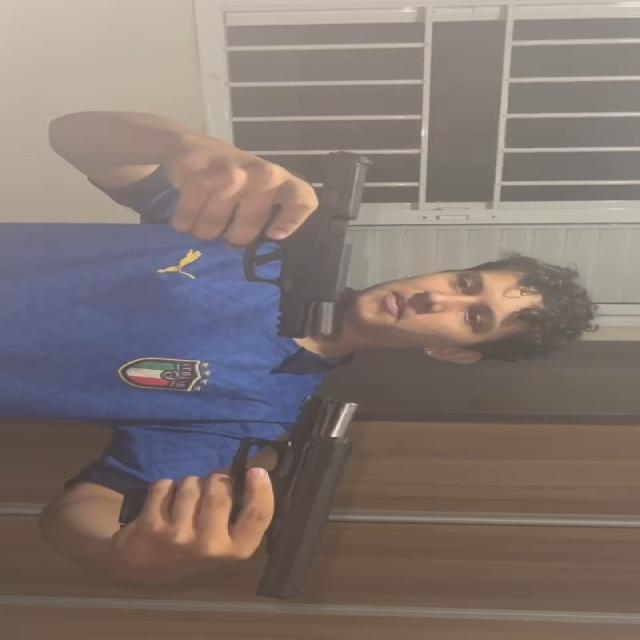gun: (217, 396, 366, 600), (228, 152, 372, 340)
